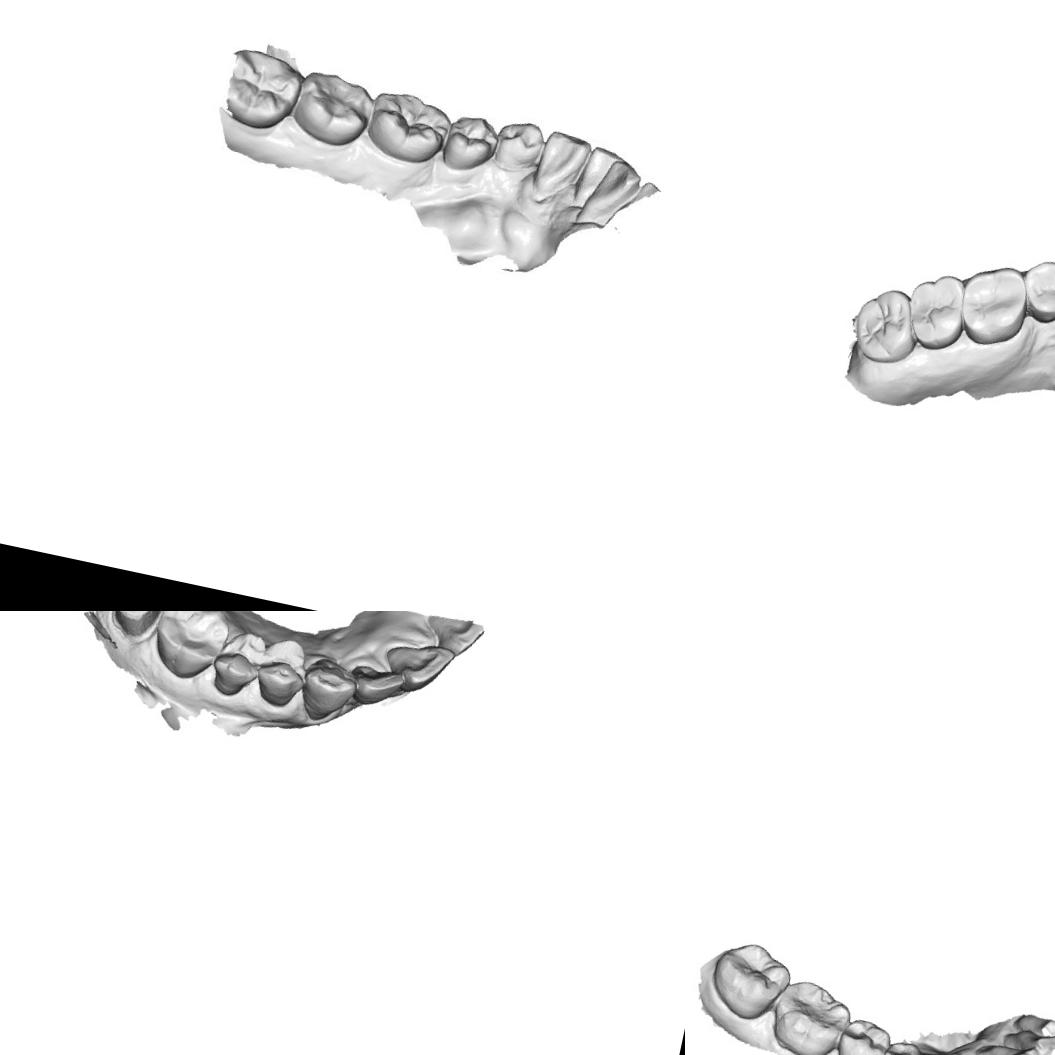canine: (293, 652, 361, 728), (532, 123, 589, 196)
crown: (106, 611, 168, 643)
incisor: (576, 157, 646, 237), (377, 634, 459, 702), (570, 139, 623, 217), (417, 611, 489, 662), (345, 662, 408, 712), (998, 1022, 1055, 1055), (974, 1035, 1040, 1055)
molar: (704, 934, 796, 1028), (950, 257, 1038, 354), (366, 84, 455, 172), (763, 975, 856, 1055), (897, 266, 974, 358), (845, 281, 924, 370), (292, 65, 378, 143), (145, 611, 234, 686), (222, 47, 303, 126)
premolar: (206, 624, 272, 702), (251, 632, 311, 712), (490, 115, 546, 174), (1014, 252, 1055, 329), (445, 112, 499, 166), (831, 1015, 894, 1055), (873, 1035, 936, 1055)
